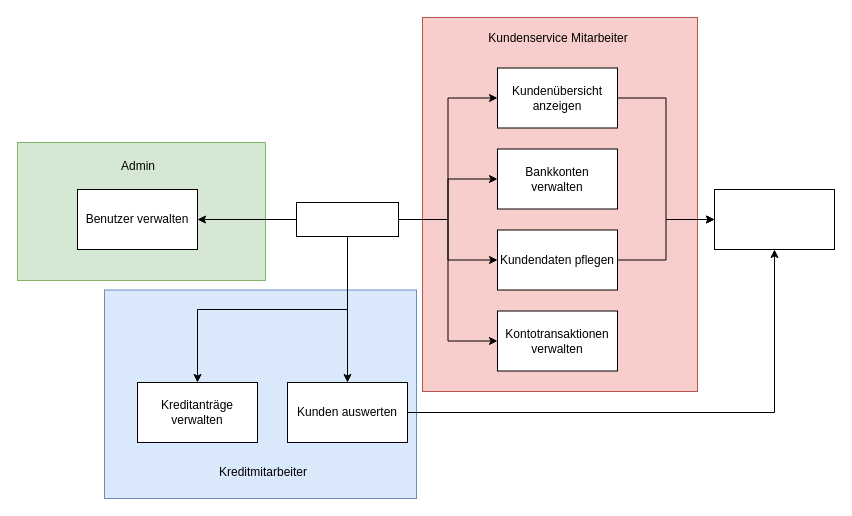
Image size: 852x516. Some labels were removed from this diagram. The shapes that lost their labels are listed below. From the top down, each one's centre as x and y in pixels, then its label:
At point 347,219: "Anmeldung".
At point 774,219: "Kunden suchen".
